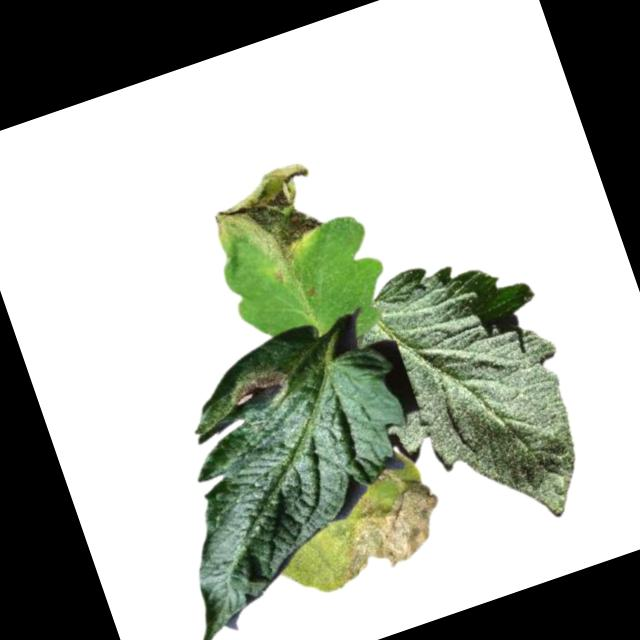Late_blight: (202, 157, 335, 284), (320, 474, 456, 587), (228, 366, 291, 409)
